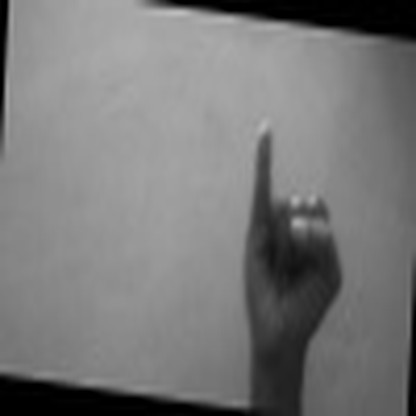i: (230, 107, 350, 362)
